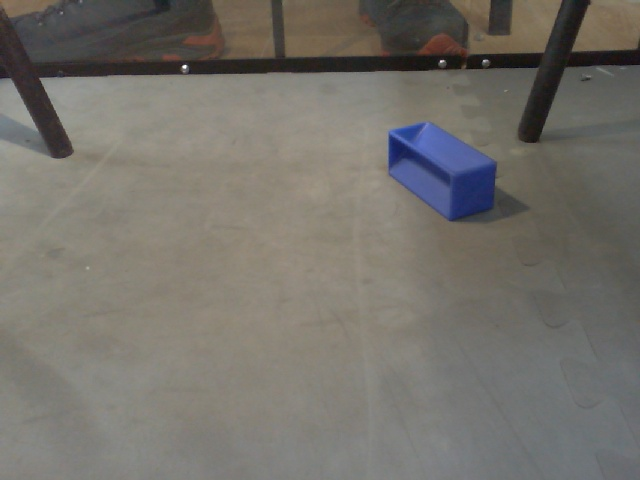BlueSample: (386, 121, 500, 223)
